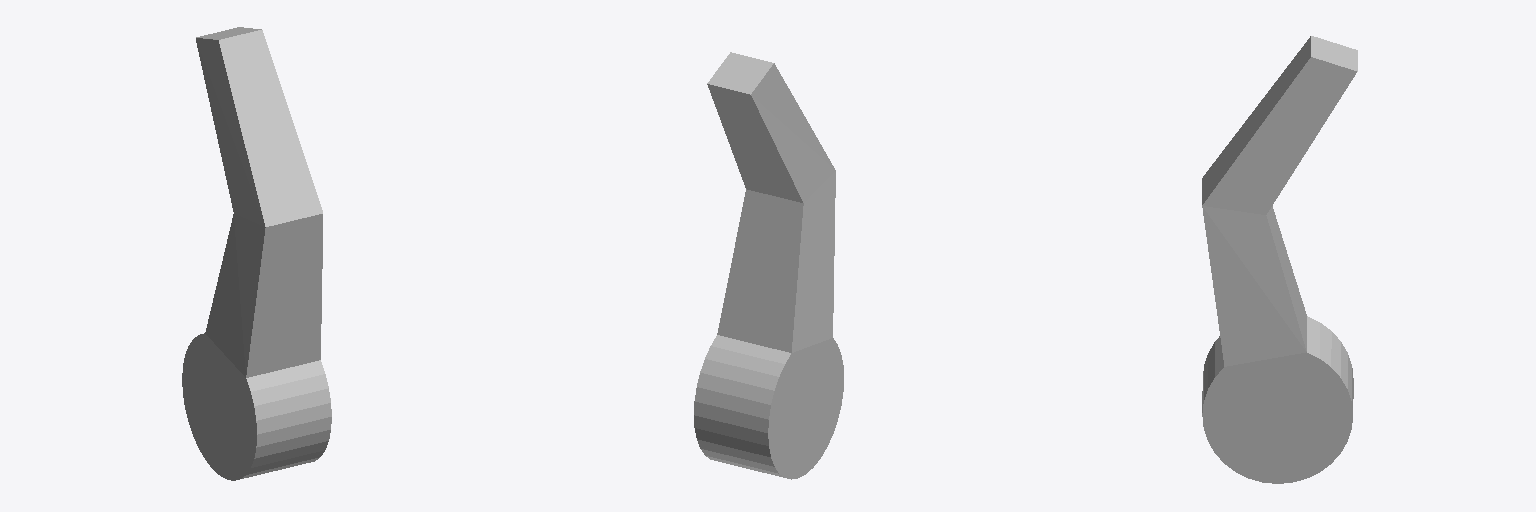
File: Claw1.obj
3 views of the same model, side by side, from view 1: azimuth 30°, elevation 25°; view 2: azimuth 150°, elevation 25°; view 3: azimuth 270°, elevation 25° (orthographic).
Parts seen in each view (by area): view 1: Claw1_Cylinder.013; view 2: Claw1_Cylinder.013; view 3: Claw1_Cylinder.013.
Part boxes in pixels (left/top/right/bottom): Claw1_Cylinder.013: left=182, top=27, right=331, bottom=480; Claw1_Cylinder.013: left=694, top=52, right=843, bottom=479; Claw1_Cylinder.013: left=1202, top=36, right=1357, bottom=483.
Bounding box in the file's own units: 0.3792 × 2.02 × 0.6807.